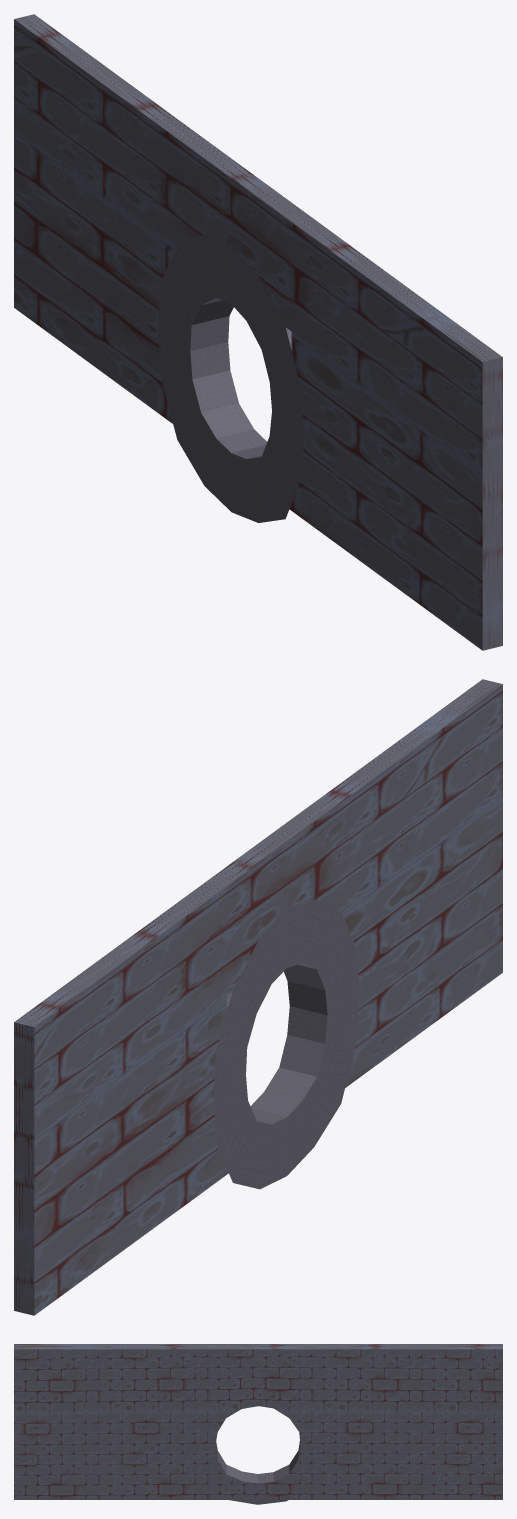
File: wall.fbx
3 views of the same model, one above another, from view 1: azimuth 30°, elevation 25°; view 2: azimuth 150°, elevation 25°; view 3: azimuth 270°, elevation 25° (orthographic). The views are drawn at different scales.
Parts seen in each view (by area): view 1: pCube1; view 2: pCube1; view 3: pCube1.
Boxes of the visible parts, <box> form: pCube1: <box>14,14,502,650</box>; pCube1: <box>14,679,502,1315</box>; pCube1: <box>14,1344,502,1504</box>.
Bounding box in the file's own units: 1.87 × 14.91 × 40.
Materials: 1 (1 with a texture image).
